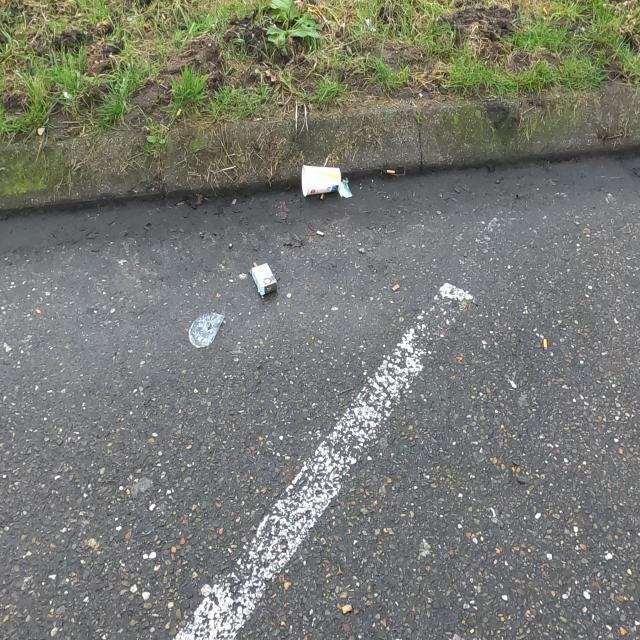Cup: (300, 164, 342, 198), (337, 176, 353, 198)
Paper: (187, 311, 225, 348), (249, 262, 278, 296)
